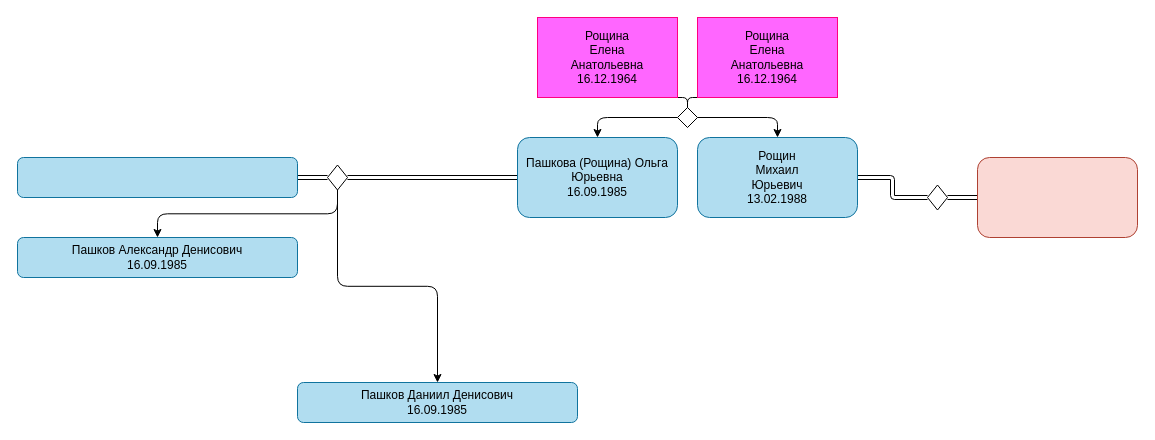
This 1155x440 diagram has some shape labels left out. Each missing label, with the centre of its shape:
Королёва Марина Дмитриевна 29.11.1985: pixel 1057 197
Пашкова Денис 16.09.1985: pixel 157 177
